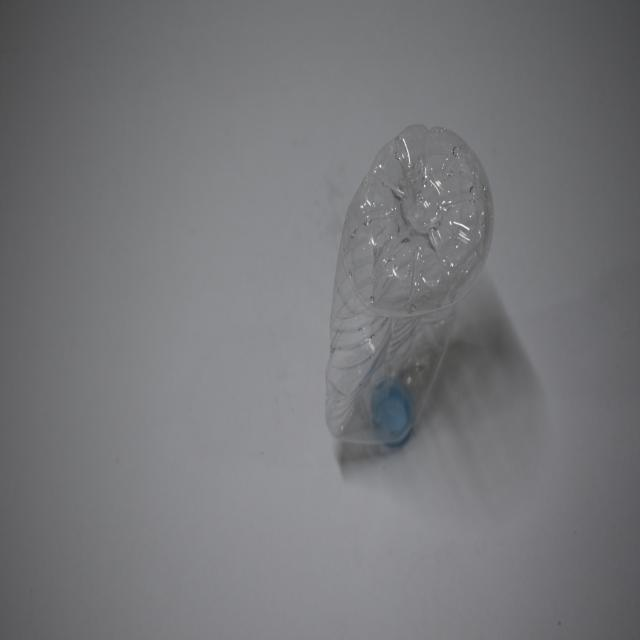plastic: (323, 115, 495, 482)
